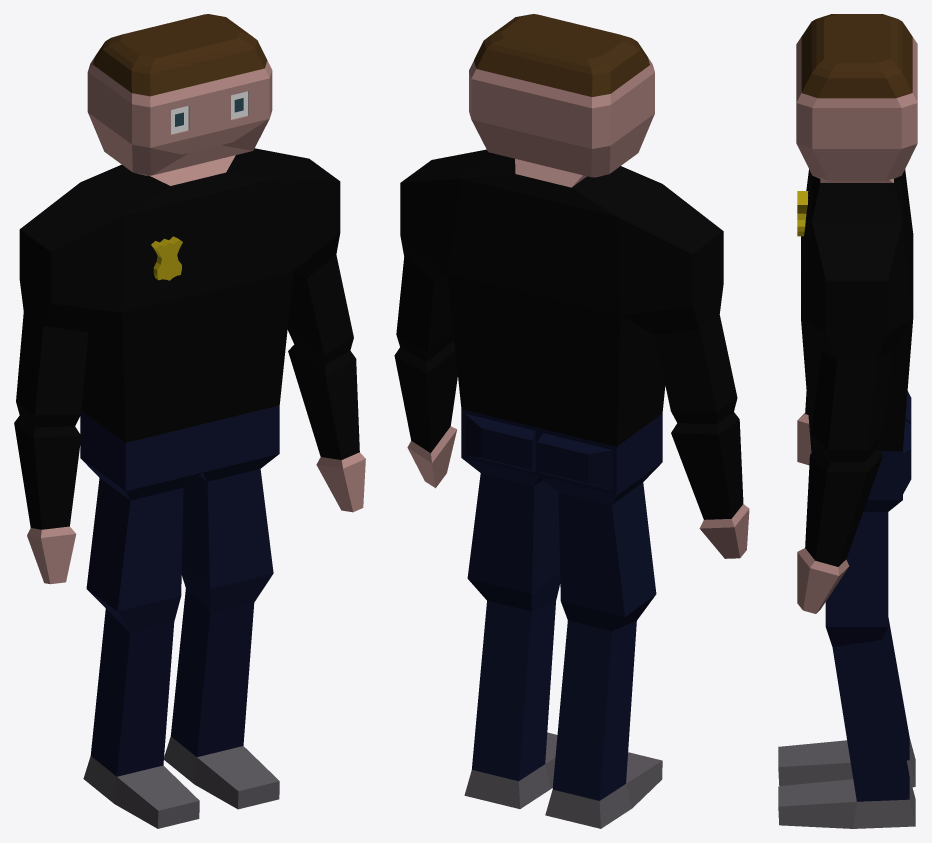
Rendered from Police.fbx.
3 views of the same model, side by side, from view 1: azimuth 30°, elevation 25°; view 2: azimuth 150°, elevation 25°; view 3: azimuth 270°, elevation 25° (orthographic).
Visible parts, largest first — view 1: Cube, Cube.001; view 2: Cube; view 3: Cube, Cube.001.
Part boxes in pixels (left/top/right/bottom): Cube: left=14, top=14, right=365, bottom=828; Cube.001: left=151, top=236, right=182, bottom=280; Cube: left=394, top=14, right=749, bottom=828; Cube: left=778, top=14, right=917, bottom=828; Cube.001: left=797, top=191, right=808, bottom=236.
Size of the model in its own units: 406 by 895 by 149.
